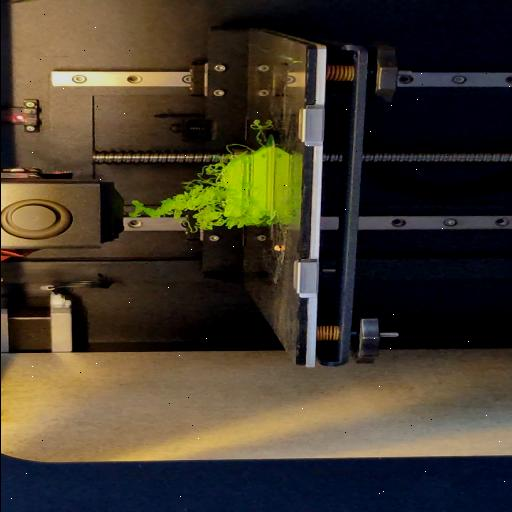spaghetti: (128, 158, 229, 228), (249, 116, 263, 142), (231, 220, 276, 228), (222, 141, 256, 151)
